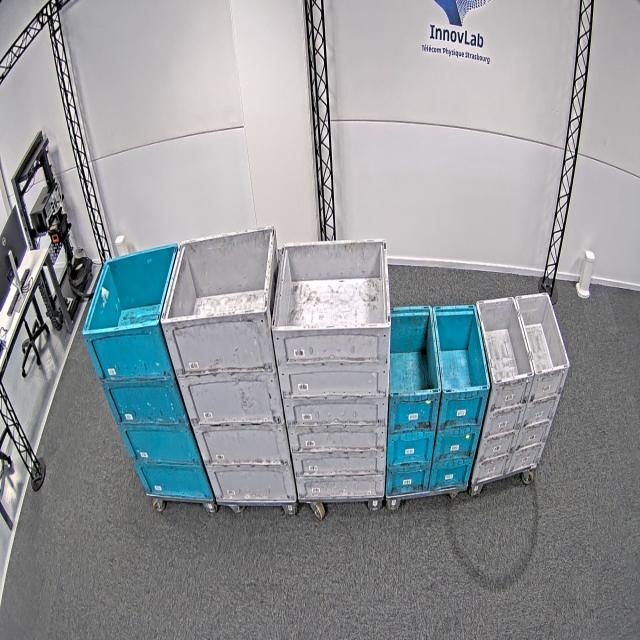Roll3G: (270, 238, 390, 334)
Roll4G: (160, 223, 278, 328)
Roll8G: (476, 292, 570, 387)
RollB4: (82, 242, 178, 338)
RollB8: (387, 302, 492, 399)
